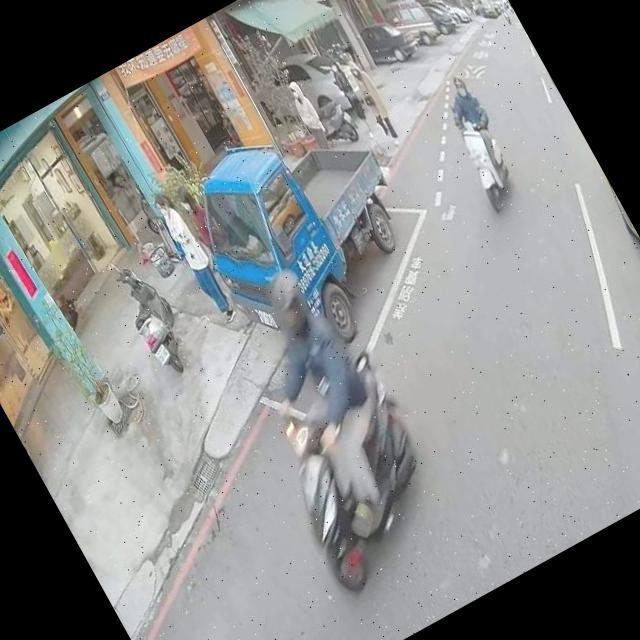person: (212, 251, 439, 558), (146, 182, 242, 327), (428, 61, 522, 191), (342, 50, 409, 150), (172, 178, 236, 266), (322, 54, 382, 144), (278, 72, 338, 158), (495, 0, 505, 14)
